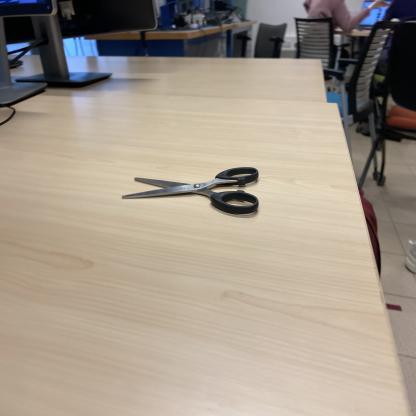scissors: (122, 164, 261, 218)
